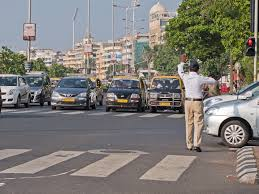signal: (245, 38, 255, 55)
